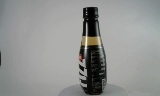appyfizz: (71, 5, 100, 94)
